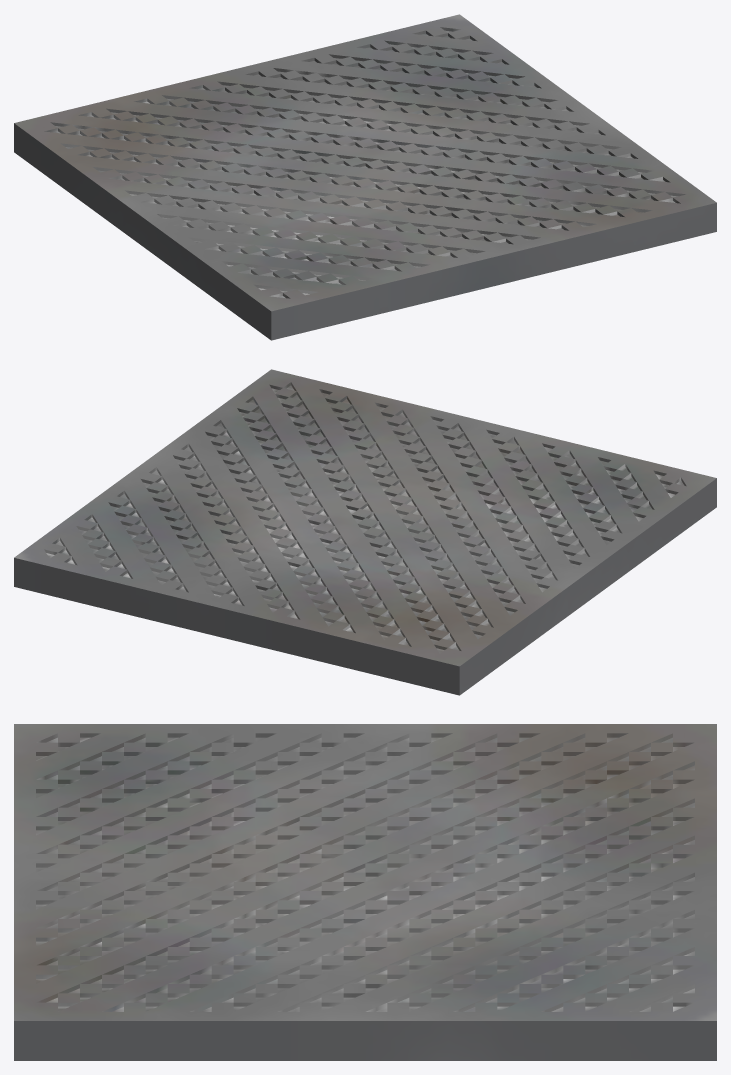
File: floo88.glb
3 renders of one model, top to bottom at view 1: azimuth 30°, elevation 25°; view 2: azimuth 150°, elevation 25°; view 3: azimuth 270°, elevation 25°, orthographic. The views are drawn at different scales.
Visible parts, largest first — view 1: Cube; view 2: Cube; view 3: Cube.
Part boxes in pixels (bbox=[...]): Cube: bbox=[14, 14, 716, 340]; Cube: bbox=[14, 369, 716, 695]; Cube: bbox=[14, 724, 716, 1060].
Size of the model in its own units: 2 by 0.125 by 2.
1 material, 1 textured.
